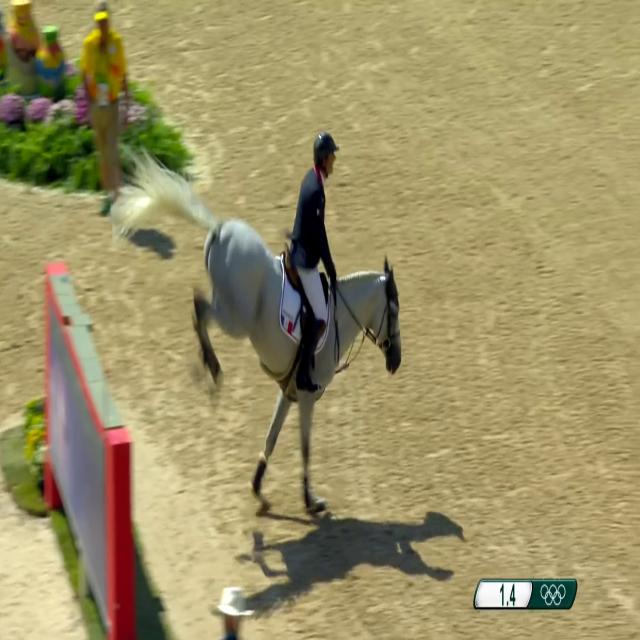Horse Jumping: (123, 143, 430, 521)
Horse Rider: (277, 60, 358, 429)
